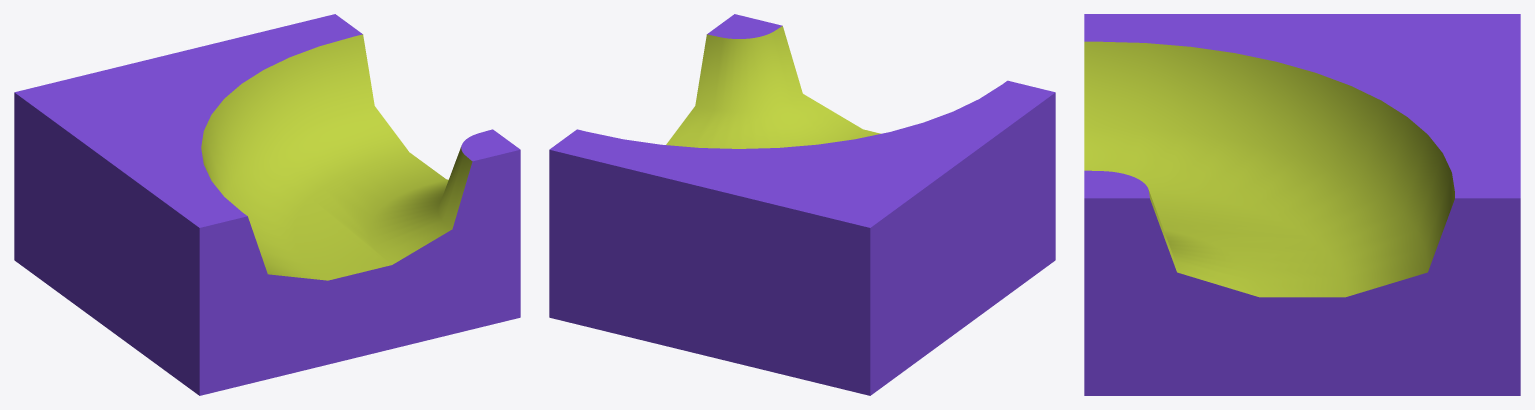
File: corner_solid-col.dae
The picture shows the model from 3 angles, left to right: view 1: azimuth 30°, elevation 25°; view 2: azimuth 150°, elevation 25°; view 3: azimuth 270°, elevation 25°; orthographic projection. The views are drawn at different scales.
Visible parts, largest first — view 1: corner_solid-col; view 2: corner_solid-col; view 3: corner_solid-col.
Boxes of the visible parts, x1,y1,x2,y2 form: corner_solid-col: [14, 14, 520, 395]; corner_solid-col: [549, 14, 1055, 395]; corner_solid-col: [1084, 14, 1520, 395].
Size of the model in its own units: 1 by 1 by 0.5.
